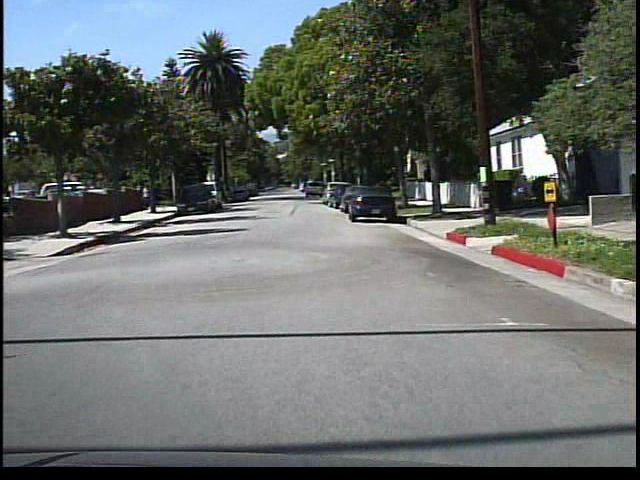person: (141, 183, 155, 213)
